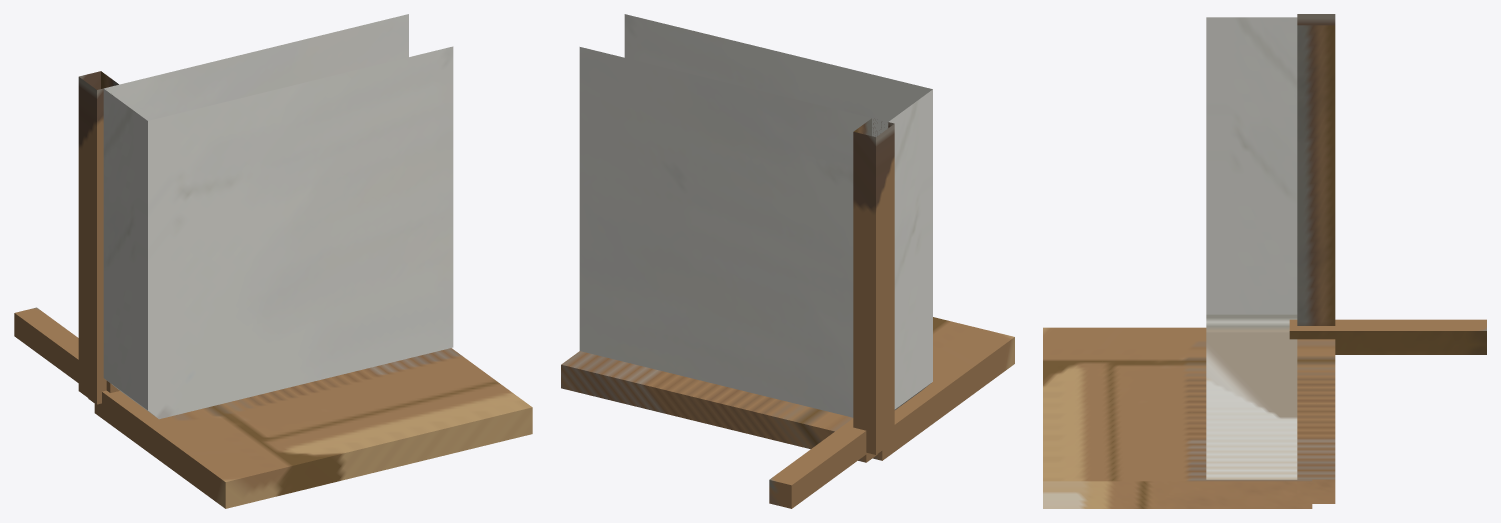
The model's file is pz_bed_bedding_01_large_oak_0_0.obj.
3 renders of one model, left to right at view 1: azimuth 30°, elevation 25°; view 2: azimuth 150°, elevation 25°; view 3: azimuth 270°, elevation 25°, orthographic. The views are drawn at different scales.
Bounding box in the file's own units: 0.975 × 0.985 × 1.17.
Materials: 1 (1 with a texture image).
